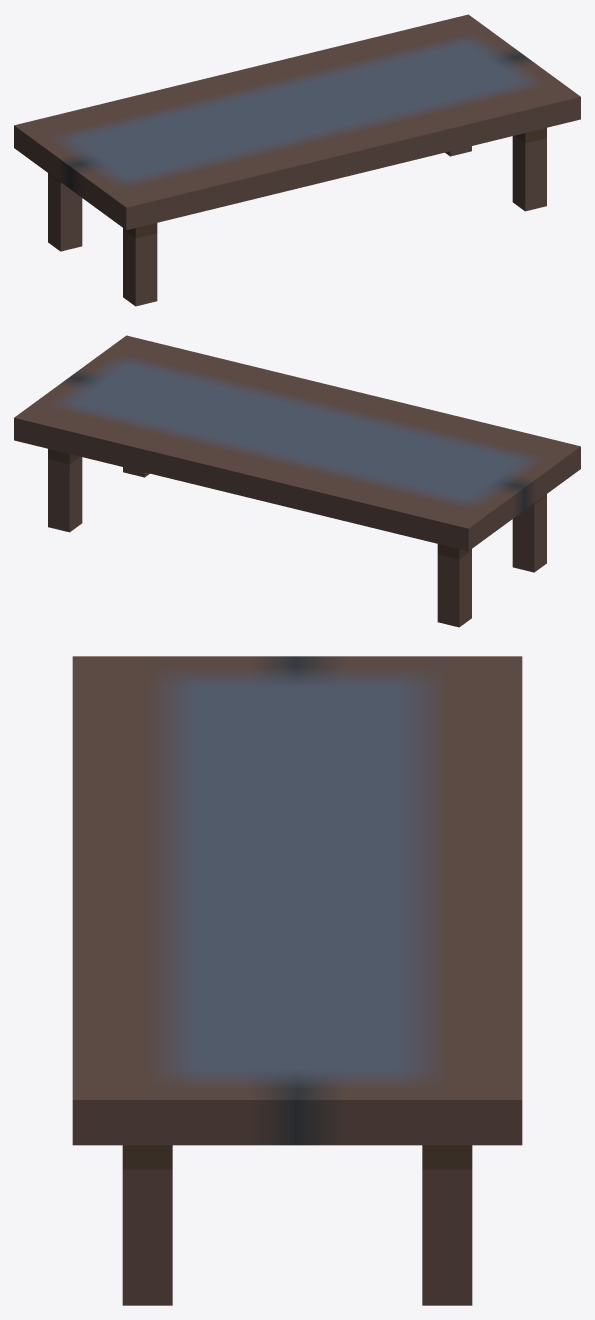
File: Market_Table-2.fbx
The picture shows the model from 3 angles, top to bottom: view 1: azimuth 30°, elevation 25°; view 2: azimuth 150°, elevation 25°; view 3: azimuth 270°, elevation 25°; orthographic projection. The views are drawn at different scales.
Parts seen in each view (by area): view 1: Market_Table_2; view 2: Market_Table_2; view 3: Market_Table_2.
Boxes of the visible parts, x1=… form: Market_Table_2: x1=14, y1=14, x2=580, y2=306; Market_Table_2: x1=14, y1=335, x2=580, y2=627; Market_Table_2: x1=72, y1=656, x2=522, y2=1305.
Size of the model in its own units: 210 by 50 by 90.
1 material, 1 textured.
